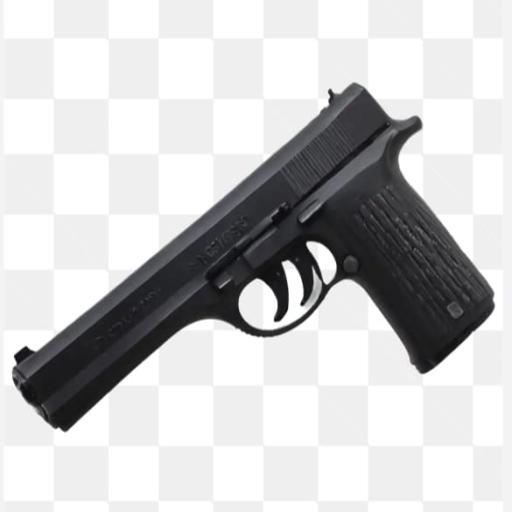Gun: (13, 84, 493, 430)
